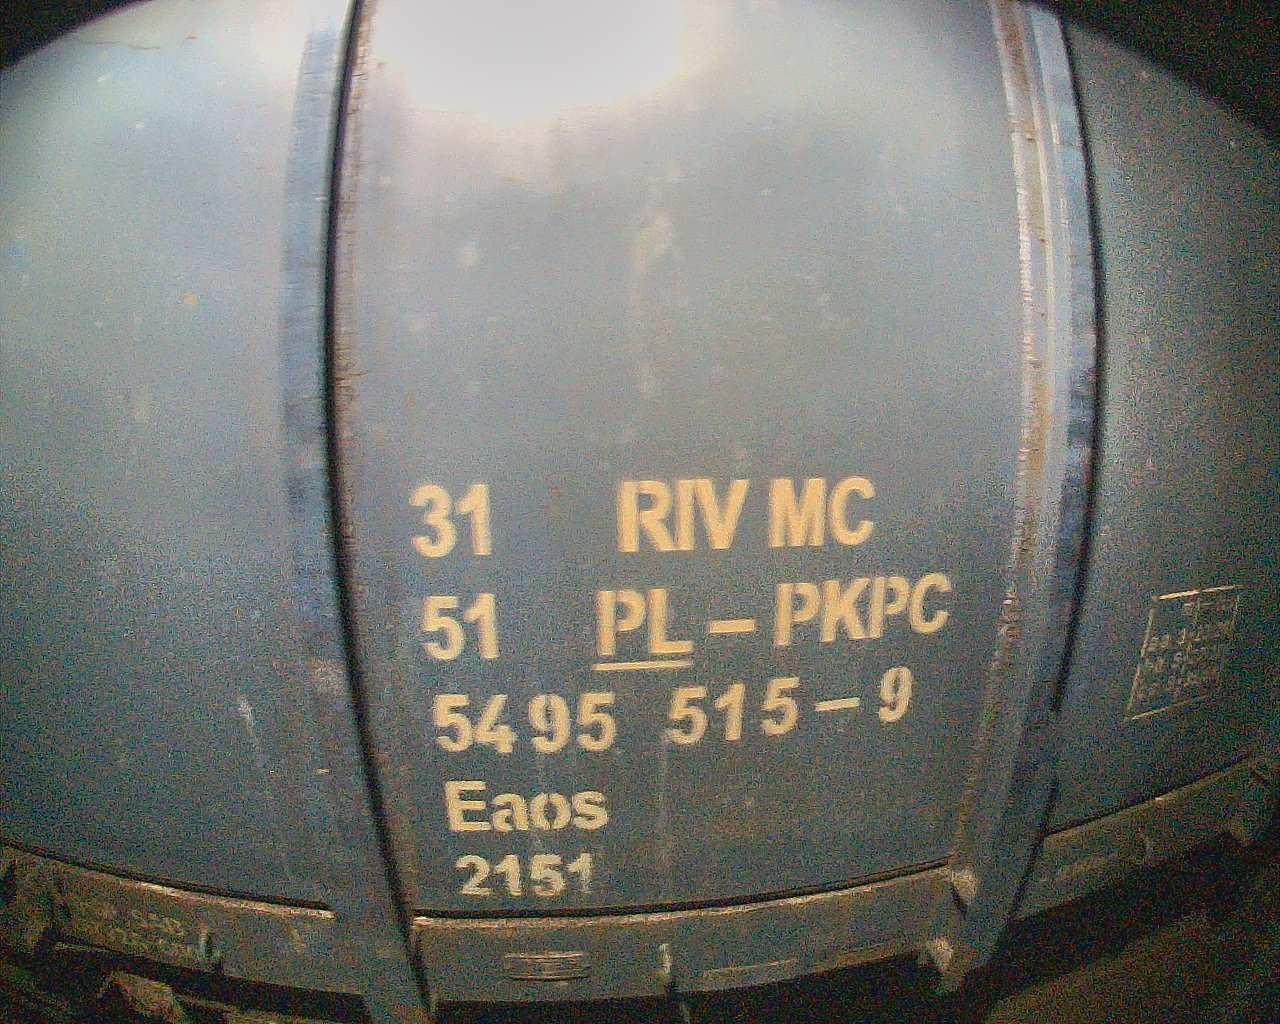UIC: (406, 478, 954, 899)
